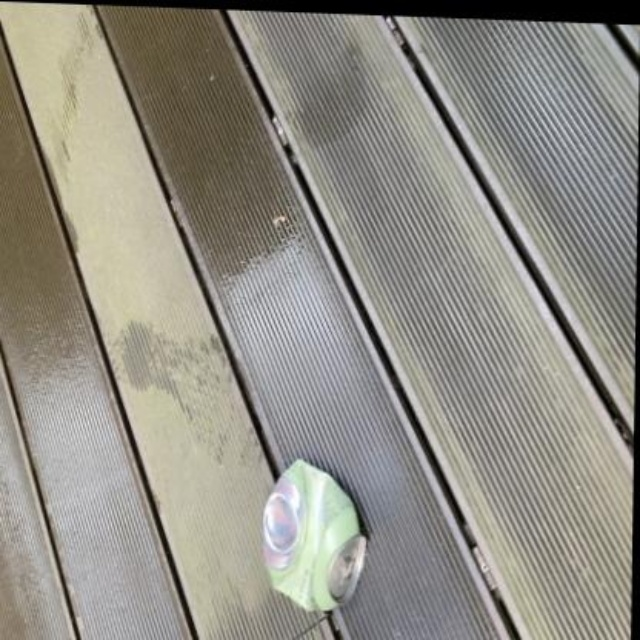trash: (263, 460, 365, 609)
